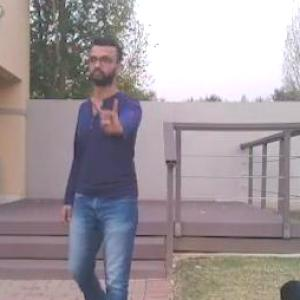takeoff-hand: (88, 87, 126, 137)
